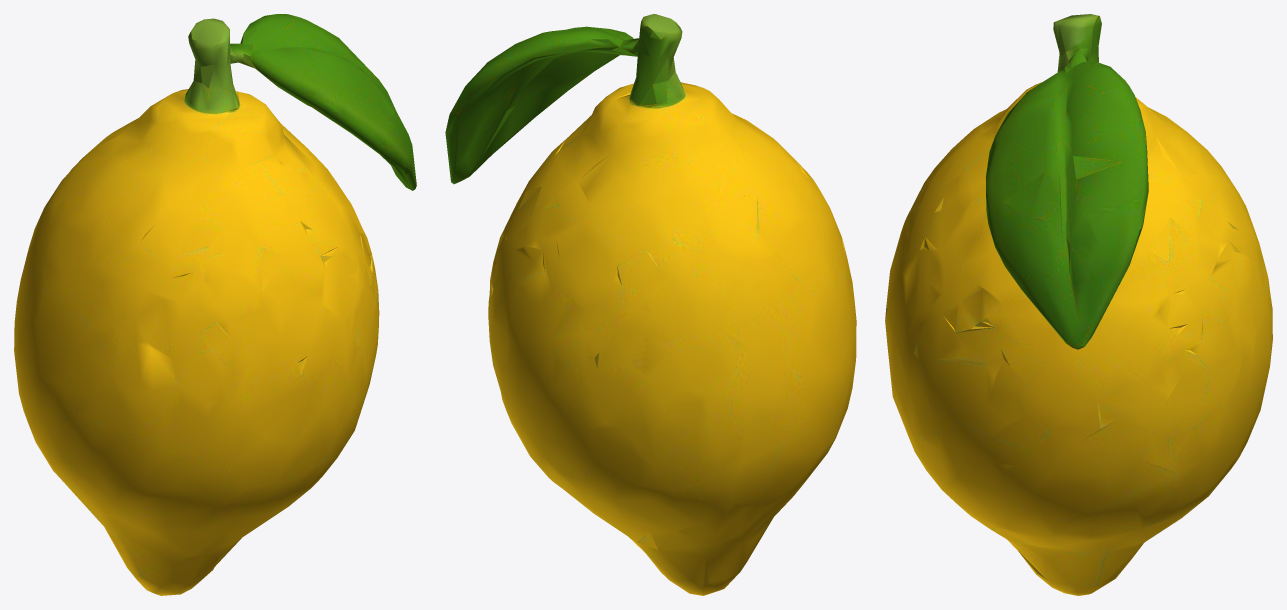
Rendered from lemon.gltf.
The picture shows the model from 3 angles, left to right: view 1: azimuth 30°, elevation 25°; view 2: azimuth 150°, elevation 25°; view 3: azimuth 270°, elevation 25°; orthographic projection. The views are drawn at different scales.
Parts seen in each view (by area): view 1: lemon; view 2: lemon; view 3: lemon.
Boxes of the visible parts, bbox=[...] form: lemon: bbox=[14, 14, 416, 595]; lemon: bbox=[445, 14, 856, 595]; lemon: bbox=[885, 14, 1272, 595].
Size of the model in its own units: 0.5666 by 0.8 by 0.4677.
Materials: 1 (1 with a texture image).
